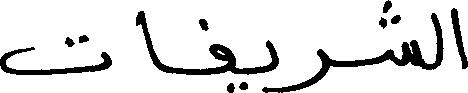X: (0, 30, 111, 79), (388, 0, 422, 73), (297, 44, 327, 92), (138, 6, 158, 73), (210, 39, 234, 92), (450, 3, 467, 73), (265, 35, 278, 92), (433, 8, 442, 74)
